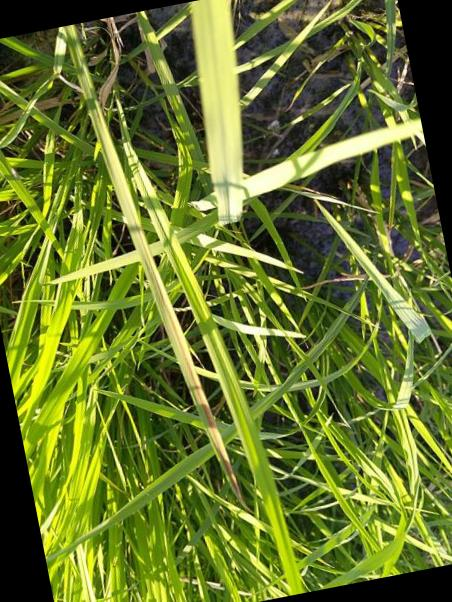Leaf Streak: (63, 24, 240, 498)
